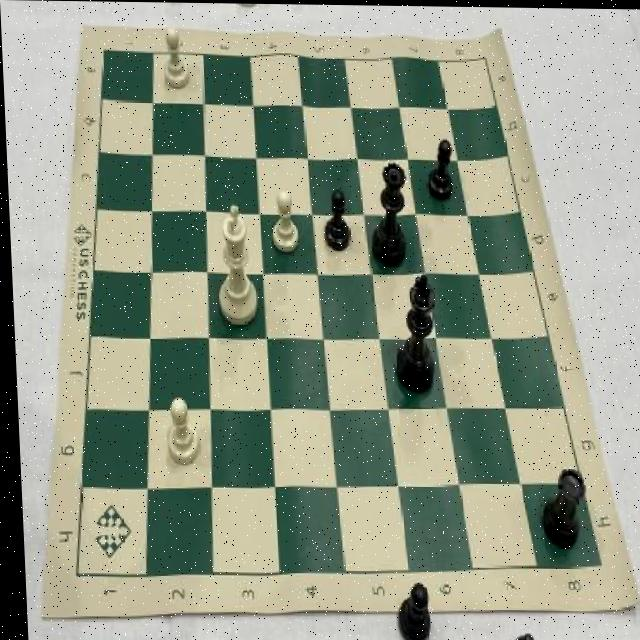black-bishop: (385, 271, 442, 400)
black-knight: (317, 185, 353, 257), (421, 133, 455, 201)
black-pawn: (365, 147, 408, 272)
black-queen: (528, 461, 585, 553)
white-bishop: (205, 199, 258, 331)
white-knight: (154, 393, 201, 469), (263, 183, 300, 255), (156, 25, 194, 94)
